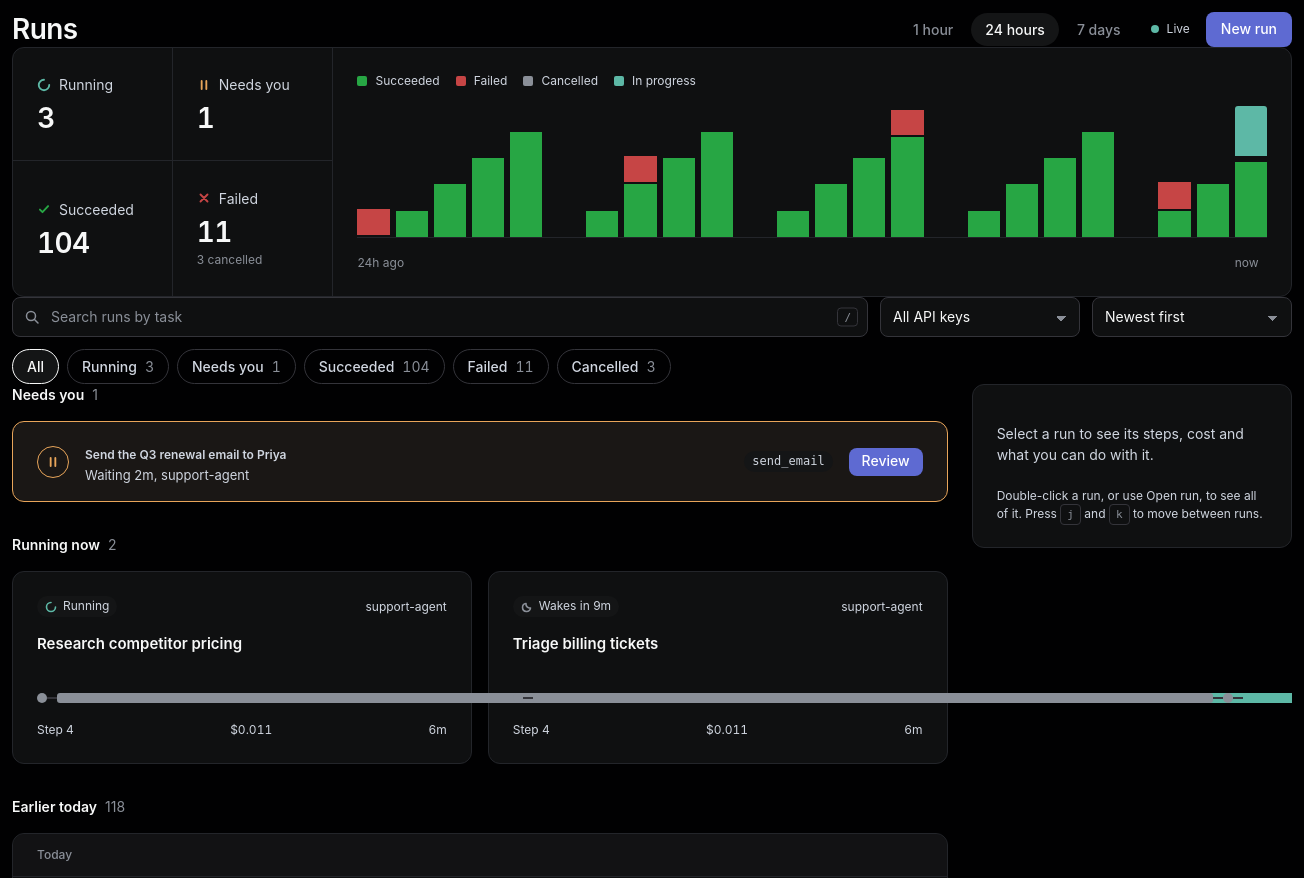
Test: live updates › changes range: asks for it, shows its heading, and ignores a late answer for the old range
Click the button "7 days": (1099, 29) [1063,13,1135,46]
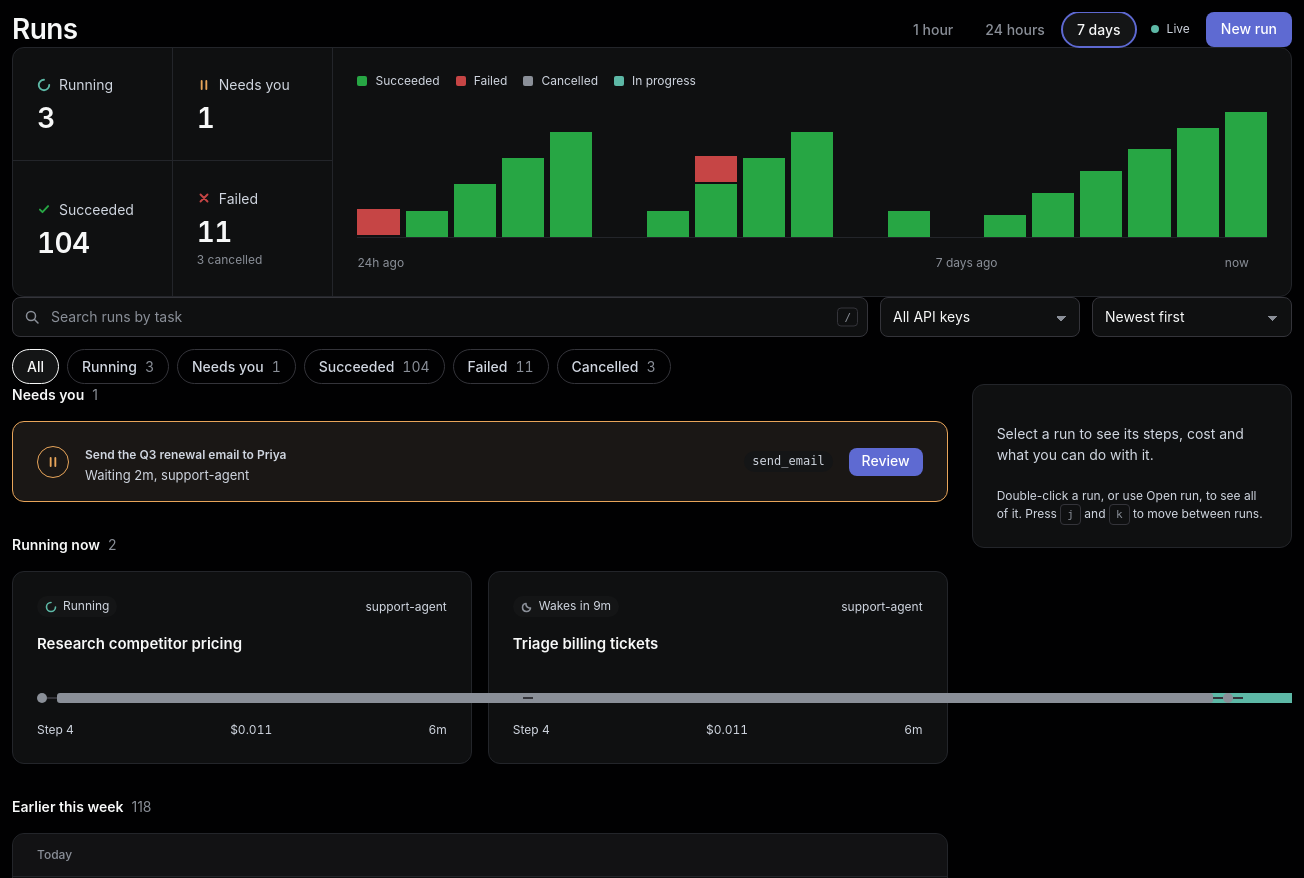
Expected: the element named "Activity in the last 7 days" is shown, [12,47,1292,297]
Expected: the heading "Earlier this week 118" is shown, [12,798,152,815]
